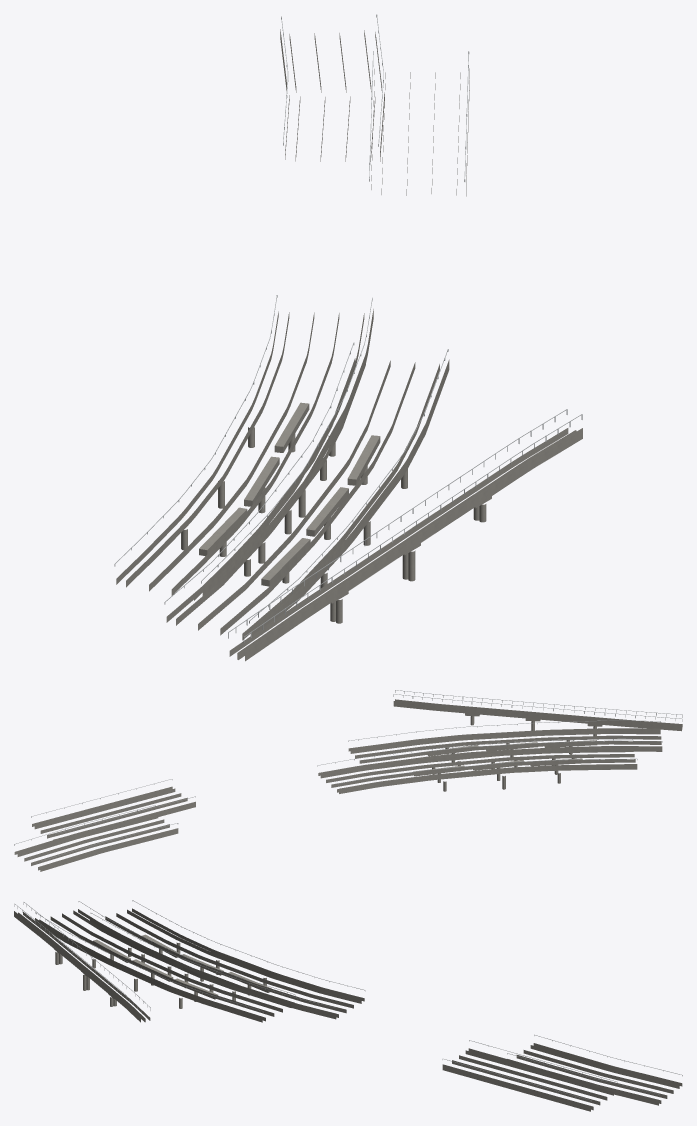
File: bridge-freedom-parkway.glb
3 renders of one model, top to bottom at view 1: azimuth 30°, elevation 25°; view 2: azimuth 150°, elevation 25°; view 3: azimuth 270°, elevation 25°, orthographic. The views are drawn at different scales.
Parts seen in each view (by area): view 1: bridge-freedom-parkway_lod0; view 2: bridge-freedom-parkway_lod0; view 3: bridge-freedom-parkway_lod0.
Part boxes in pixels (x1,y1,x2,y2): bridge-freedom-parkway_lod0: [114, 14, 582, 661]; bridge-freedom-parkway_lod0: [14, 690, 682, 871]; bridge-freedom-parkway_lod0: [14, 900, 682, 1111].
Size of what is drawn, in the model's own units: 130 by 11.9 by 180.
Materials: 3 (2 with a texture image).
